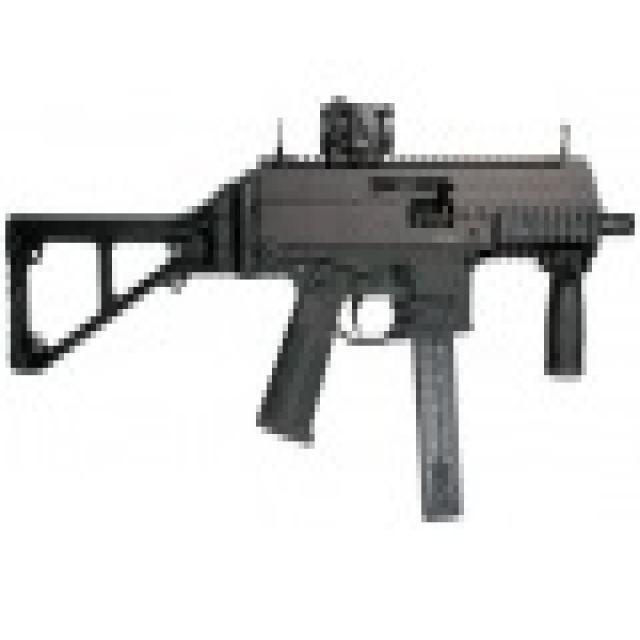Gun: (52, 68, 623, 474)
